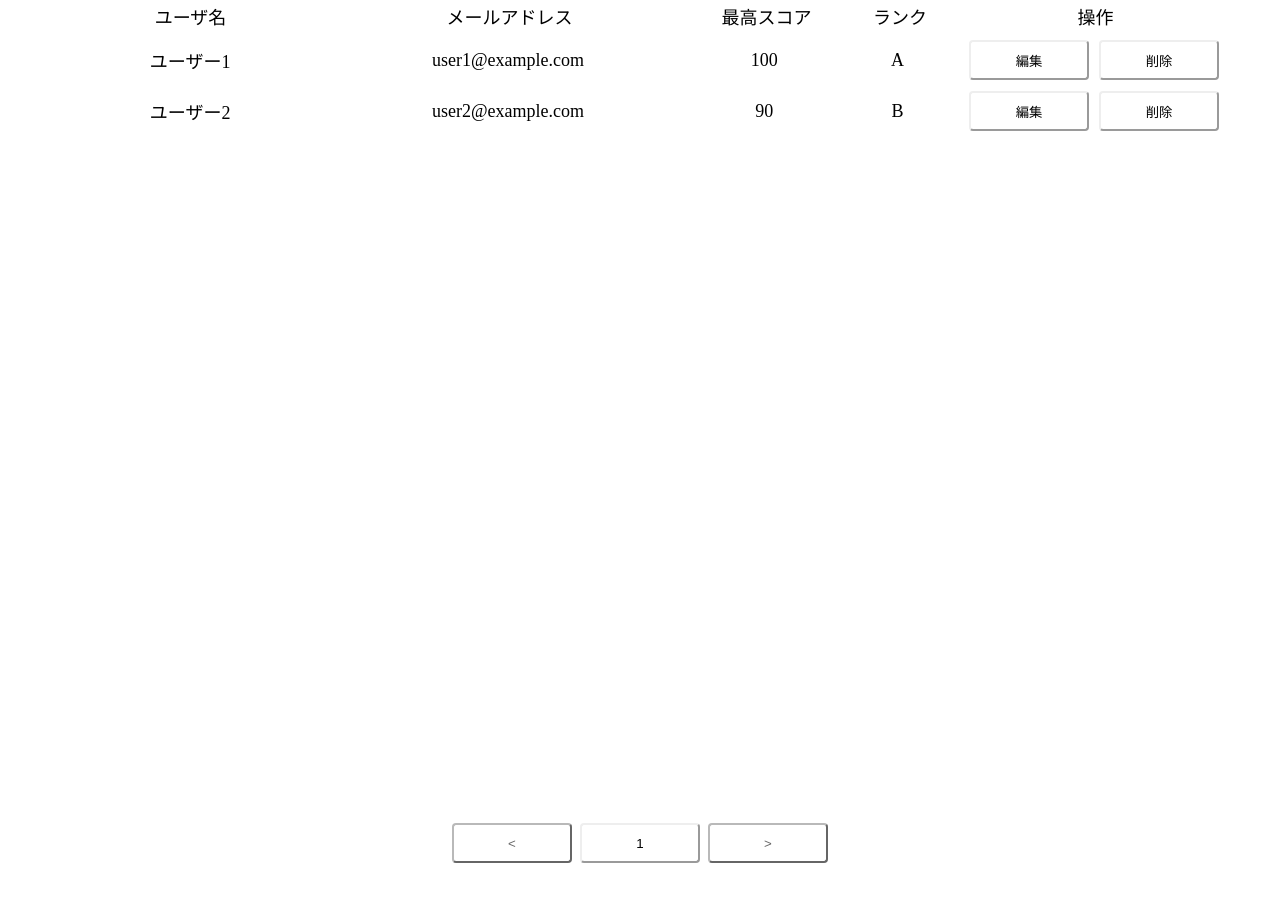
Test: PaginatedUserList › Edit Functionality › 編集モードに切り替わる
The width and height of the screenshot is (1280, 900).
Click the button "編集" in the row of "ユーザー1" at (1029,60), box [969,40,1089,80]
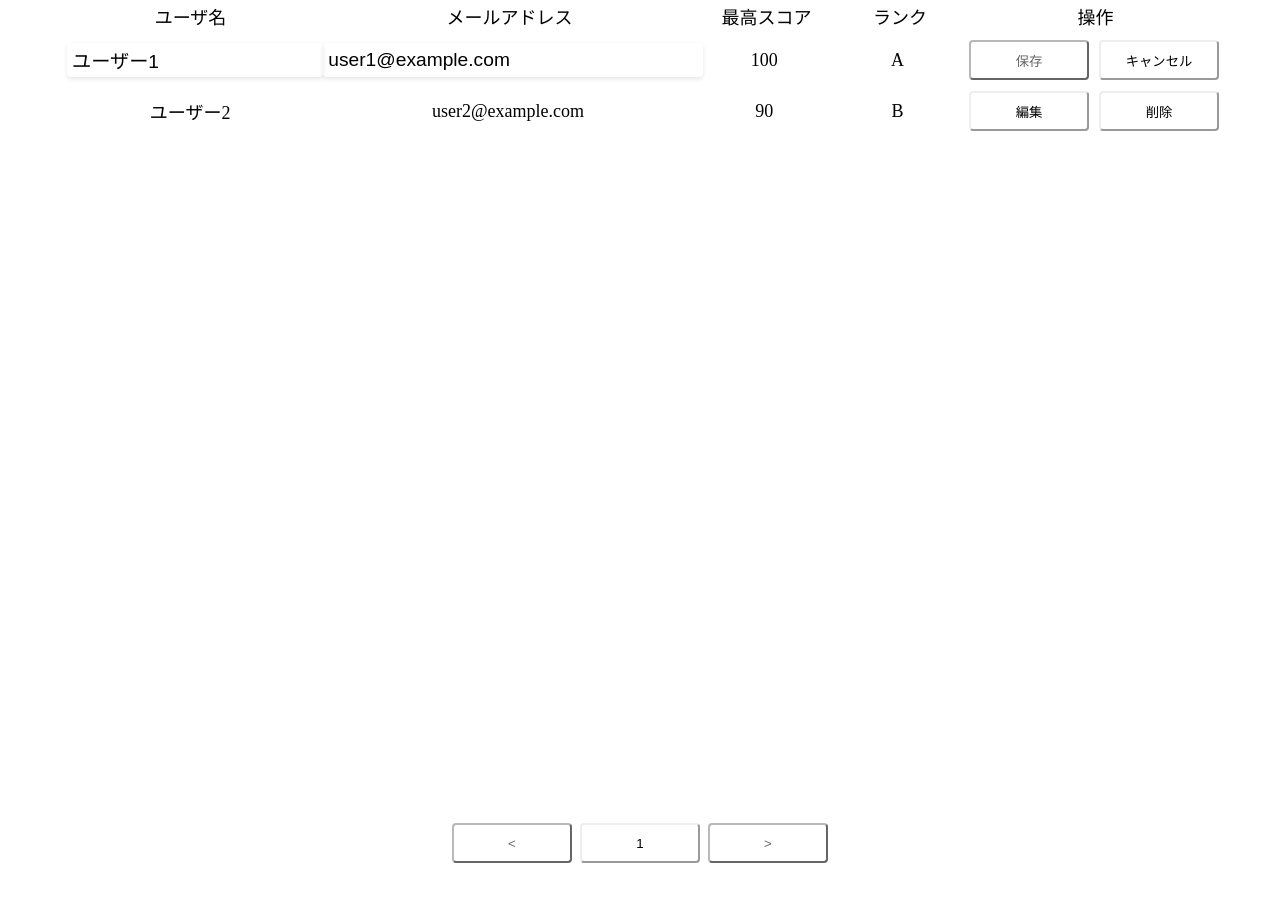
Expected: the number of fields is 2, [67,43,323,77]; [323,43,703,77]
